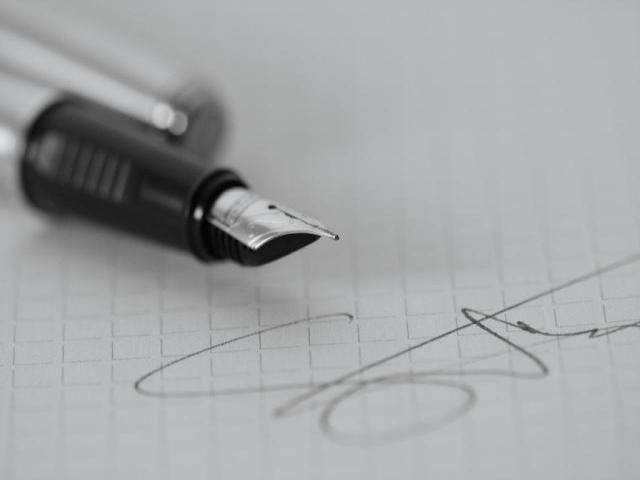PEN: (0, 6, 346, 274)
